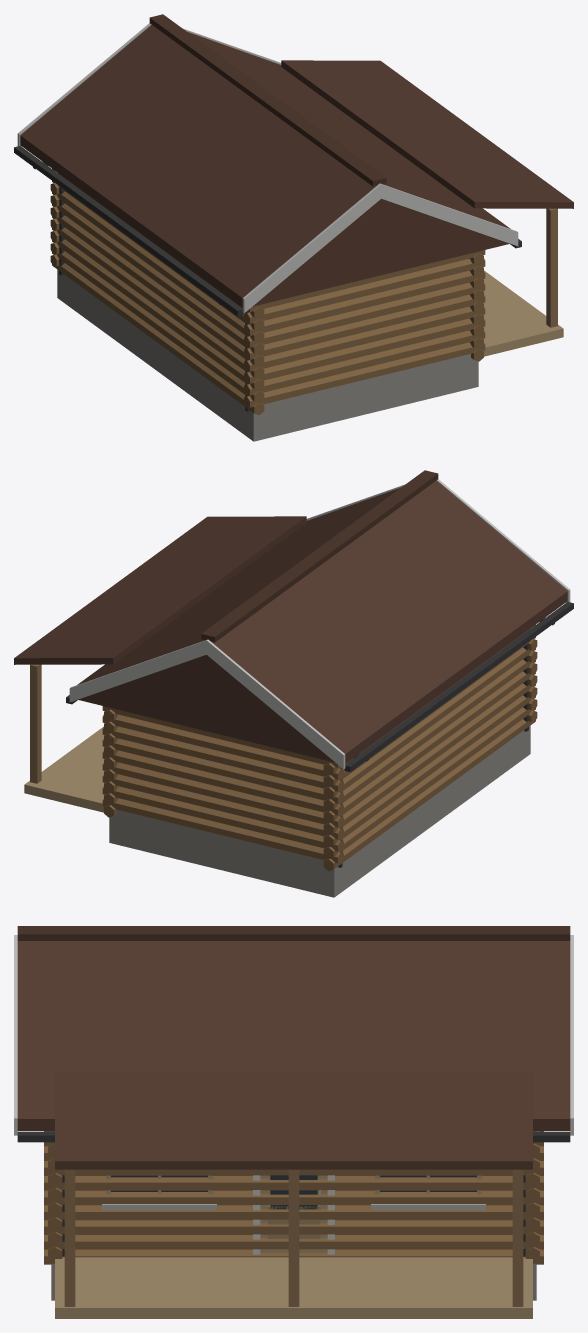
Rendered from SM_Prop_cafe_building_3.glb.
The picture shows the model from 3 angles, top to bottom: view 1: azimuth 30°, elevation 25°; view 2: azimuth 150°, elevation 25°; view 3: azimuth 270°, elevation 25°; orthographic projection. The views are drawn at different scales.
Visible parts, largest first — view 1: SM_Prop_cafe_building_3; view 2: SM_Prop_cafe_building_3; view 3: SM_Prop_cafe_building_3.
Boxes of the visible parts, box(x1,y1,x2,y2) form: SM_Prop_cafe_building_3: box(14, 14, 573, 441); SM_Prop_cafe_building_3: box(14, 470, 573, 897); SM_Prop_cafe_building_3: box(14, 926, 573, 1318).
Bounding box in the file's own units: 6.72 × 4.47 × 7.5.
